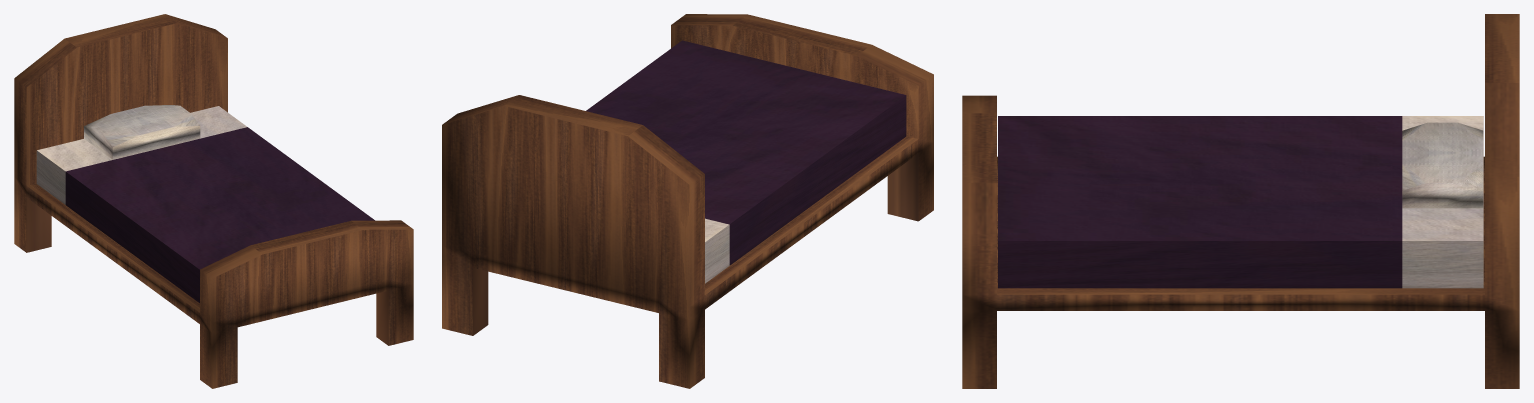
Rendered from Bed.fbx.
The picture shows the model from 3 angles, left to right: view 1: azimuth 30°, elevation 25°; view 2: azimuth 150°, elevation 25°; view 3: azimuth 270°, elevation 25°; orthographic projection. The views are drawn at different scales.
Visible parts, largest first — view 1: Bed; view 2: Bed; view 3: Bed.
Part boxes in pixels (x1,y1,x2,y2): Bed: [14, 14, 413, 388]; Bed: [442, 14, 933, 388]; Bed: [962, 14, 1519, 388].
Size of the model in its own units: 141 by 129 by 240.
